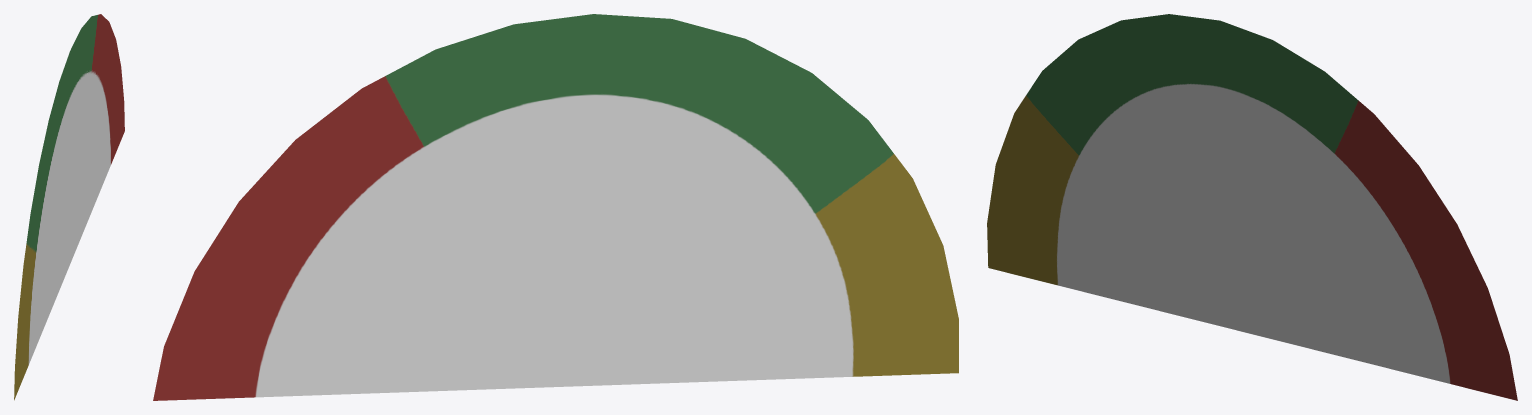
File: Laughthing.fbx
The picture shows the model from 3 angles, left to right: view 1: azimuth 30°, elevation 25°; view 2: azimuth 150°, elevation 25°; view 3: azimuth 270°, elevation 25°; orthographic projection. The views are drawn at different scales.
Visible parts, largest first — view 1: Laugh-o-meter; view 2: Laugh-o-meter; view 3: Laugh-o-meter.
Part boxes in pixels (x1=…): Laugh-o-meter: x1=14, y1=14, x2=124, y2=400; Laugh-o-meter: x1=153, y1=14, x2=958, y2=400; Laugh-o-meter: x1=987, y1=14, x2=1517, y2=400.
Size of the model in its own units: 28.75 by 22.63 by 31.89.
